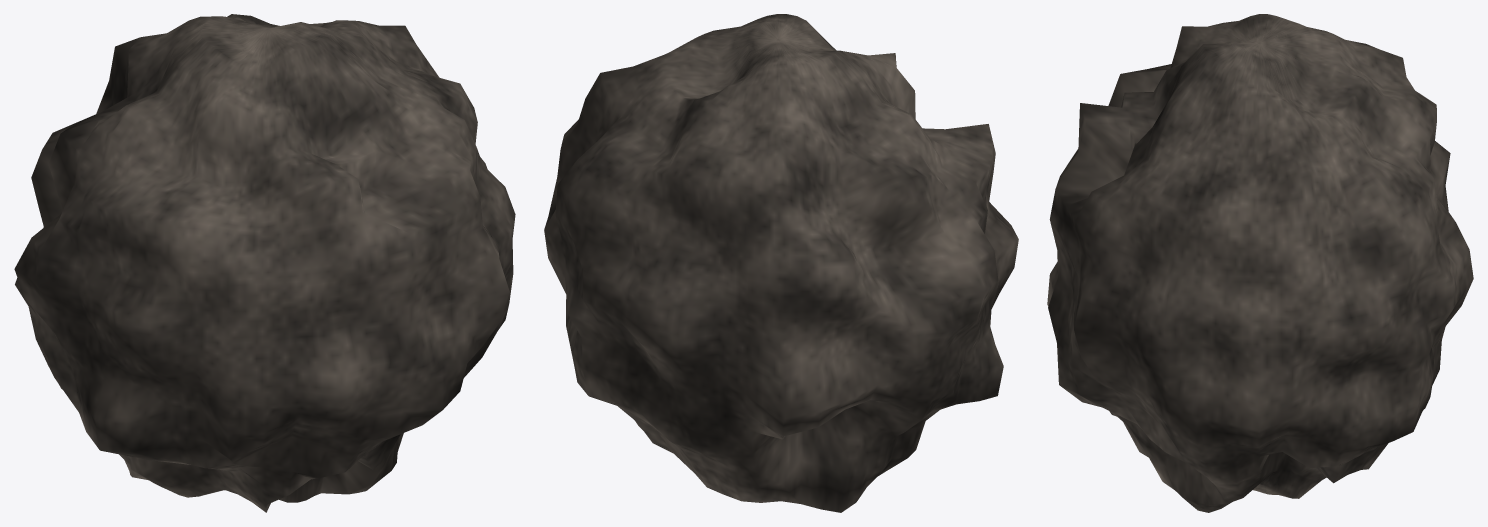
Rendered from asteroide-cratera.glb.
The picture shows the model from 3 angles, left to right: view 1: azimuth 30°, elevation 25°; view 2: azimuth 150°, elevation 25°; view 3: azimuth 270°, elevation 25°; orthographic projection. The views are drawn at different scales.
Parts seen in each view (by area): view 1: Asteroide · cratera; view 2: Asteroide · cratera; view 3: Asteroide · cratera.
Part boxes in pixels (box(x1,y1,x2,y2)): Asteroide · cratera: box(14, 14, 515, 512); Asteroide · cratera: box(544, 14, 1018, 512); Asteroide · cratera: box(1047, 14, 1473, 512).
Size of the model in its own units: 2.32 by 2.19 by 1.9.
1 material, 1 textured.
